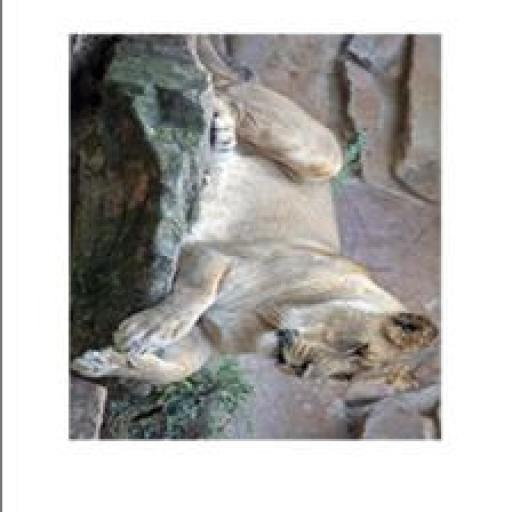lion: (25, 32, 429, 399)
